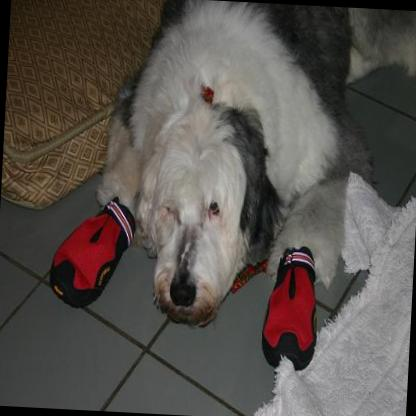Old_English_sheepdog: (86, 0, 386, 334)
